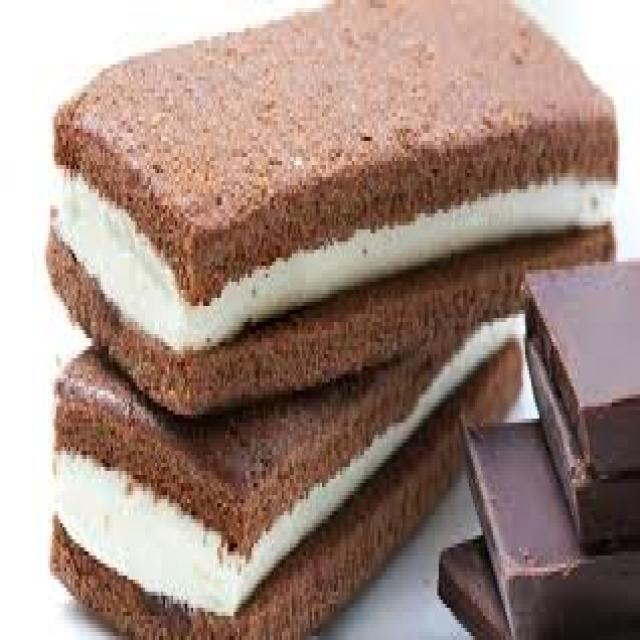Chocolate bar packaged: (515, 282, 640, 640)
